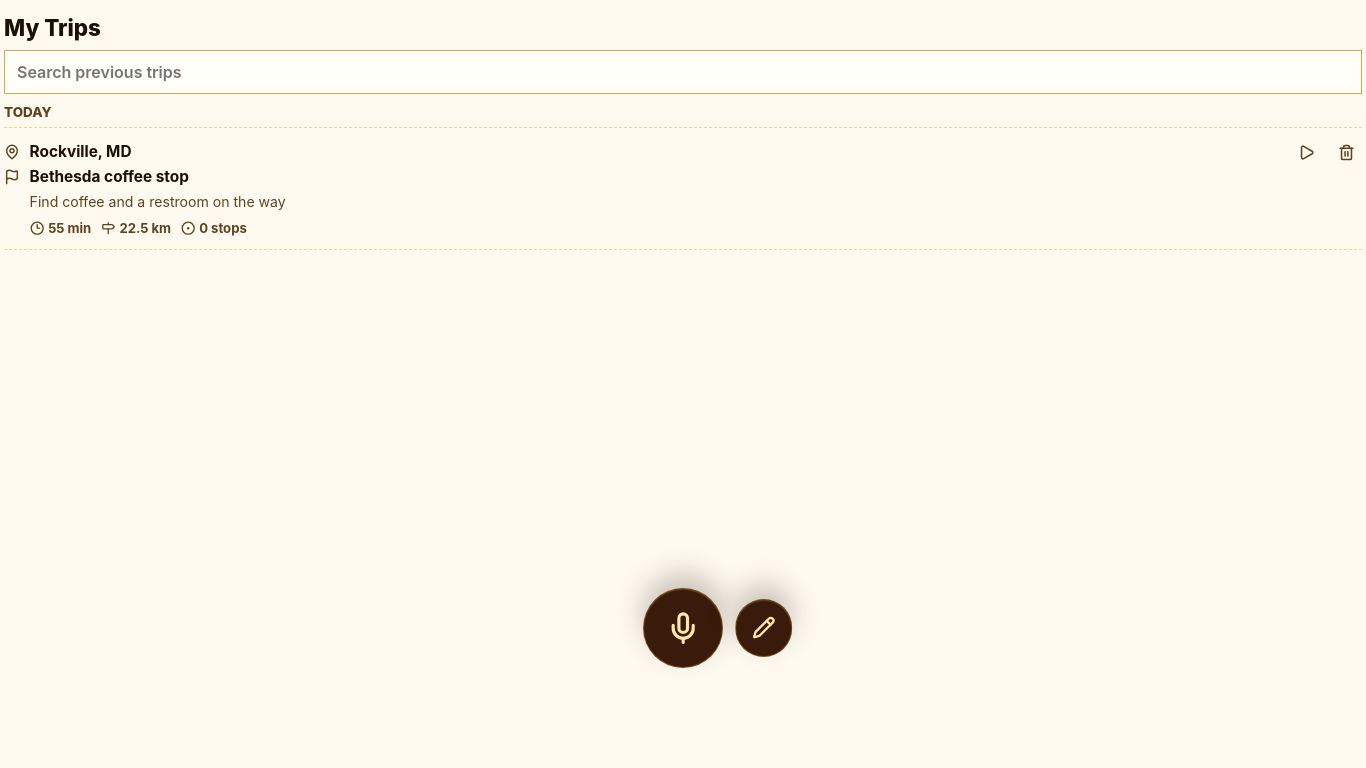
Test case: MainScreen › formats previous trip distances with the saved distance unit
This screenshot has width=1366, height=768.
Expected: the text "22.5 km" is shown, [119, 221, 171, 236]
Expected: the text "14 mi" is not shown
Type "22.5 km" into the search field labelled "Search previous trips" at (683, 72), box [4, 50, 1362, 94]
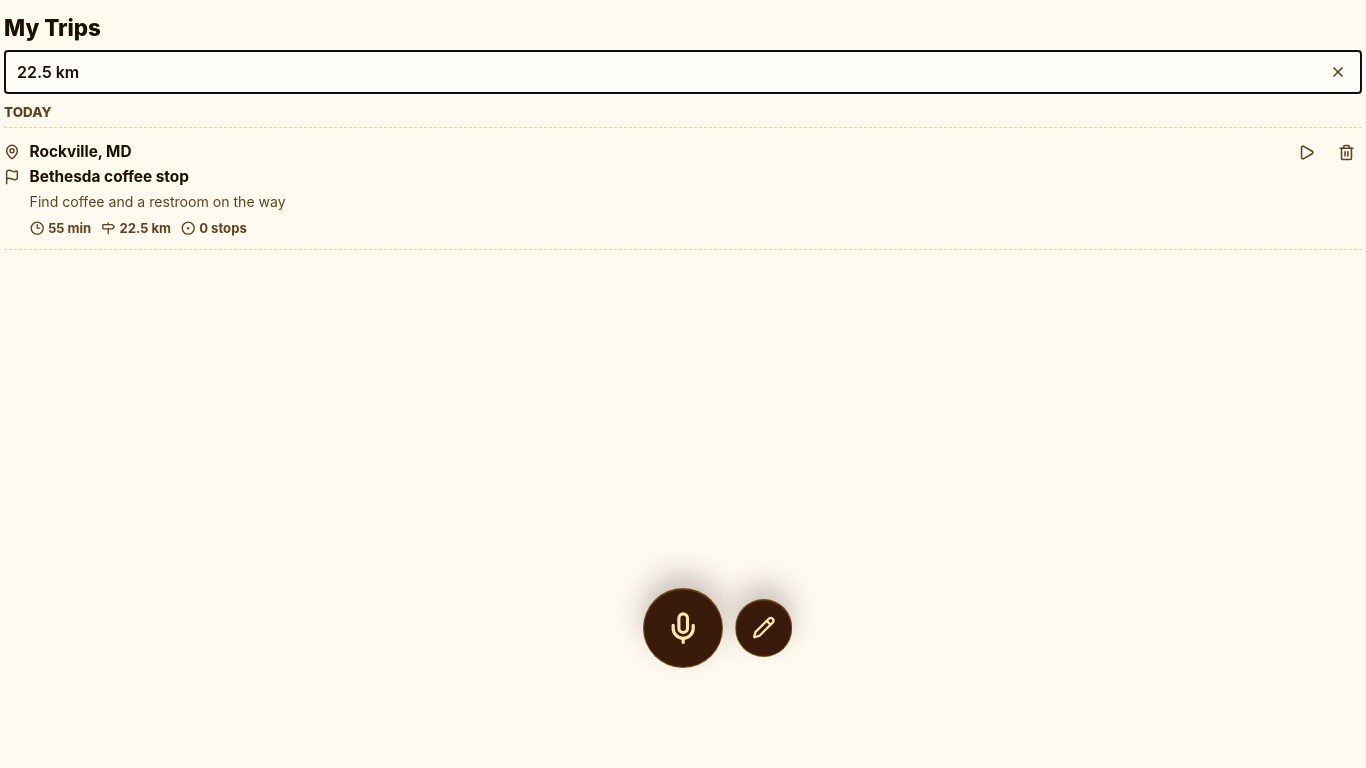
Expected: the text "Find coffee and a restroom on the way" is shown, [30, 193, 286, 210]
Replace the text in the search field named "Search previous trips" with "14 mi" at (683, 72), box [4, 50, 1362, 94]
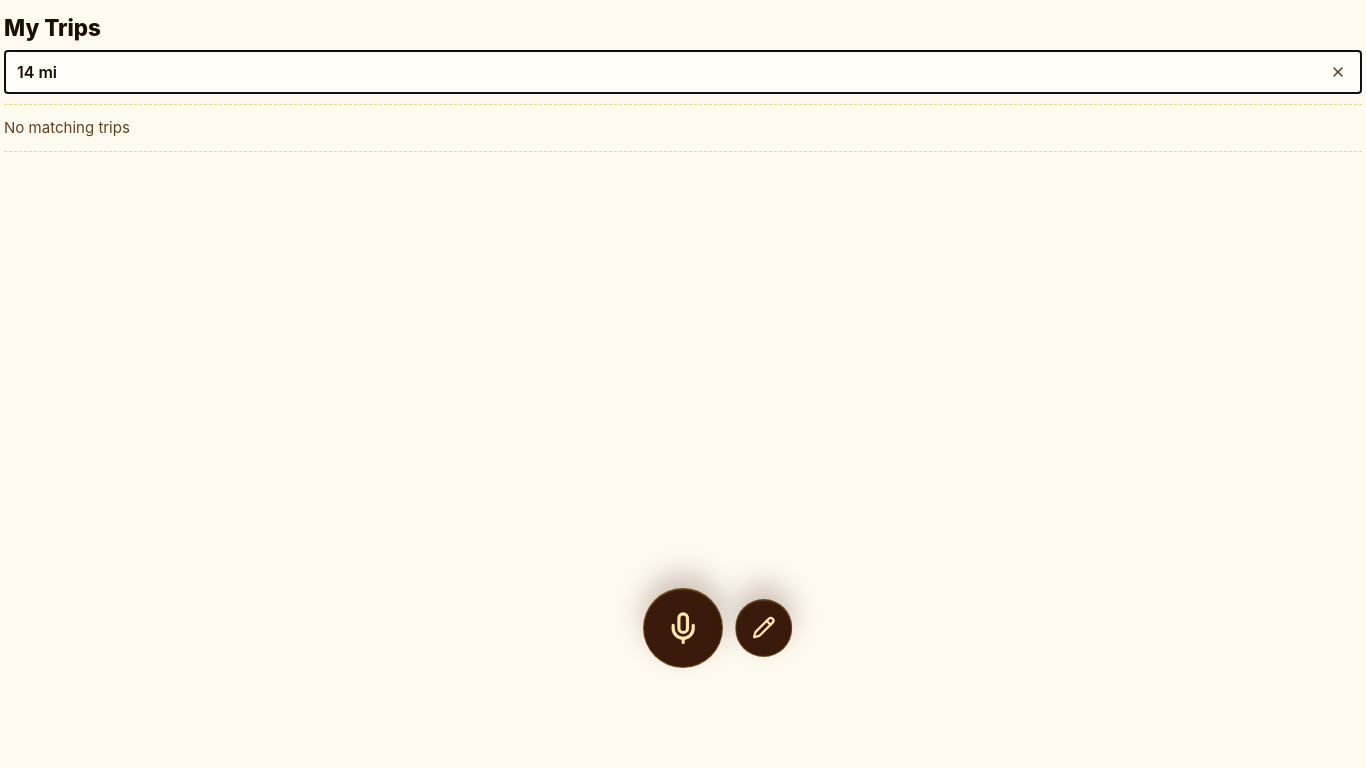
Expected: the text "No matching trips" is shown, [4, 104, 1362, 152]
